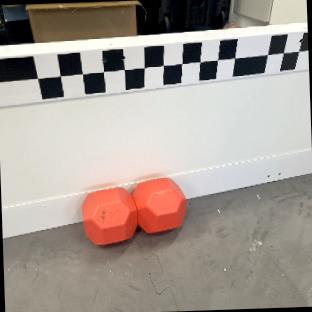V5_RED: (80, 175, 187, 246)
